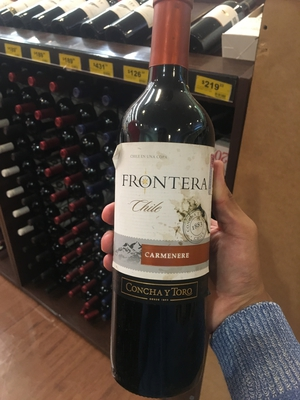frontera carmenere: (102, 36, 225, 390)
